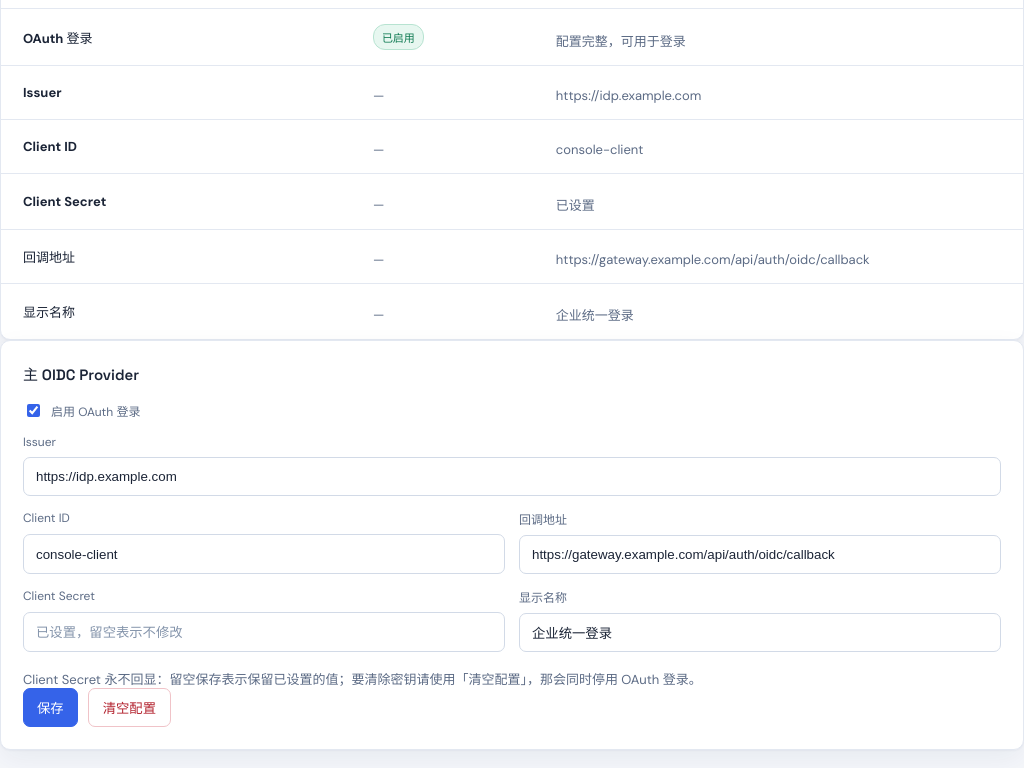
Test: 主 OIDC Provider 清空 › 「清空配置」发 DELETE 并重新读取服务端状态
(page scrolled)
Click the button "清空配置".
click(129, 708)  # box x1=88 y1=688 x2=171 y2=727
(page scrolled)
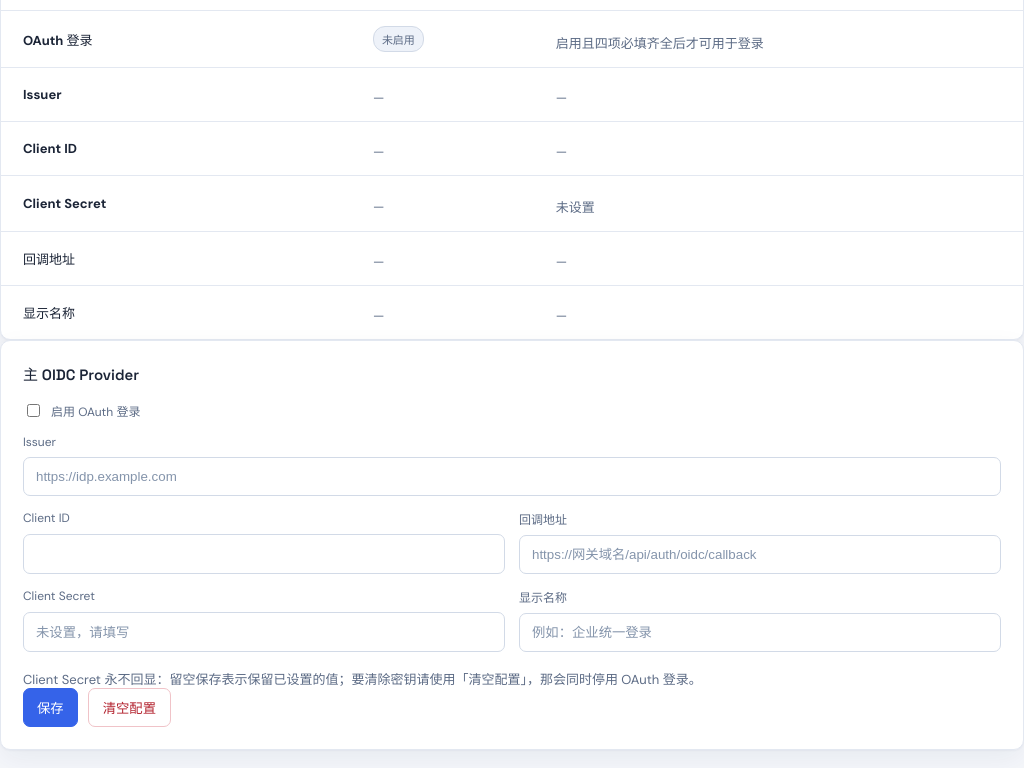
Result: the checkbox labelled "启用 OAuth 登录" is not checked at x1=27 y1=404 x2=40 y2=417
